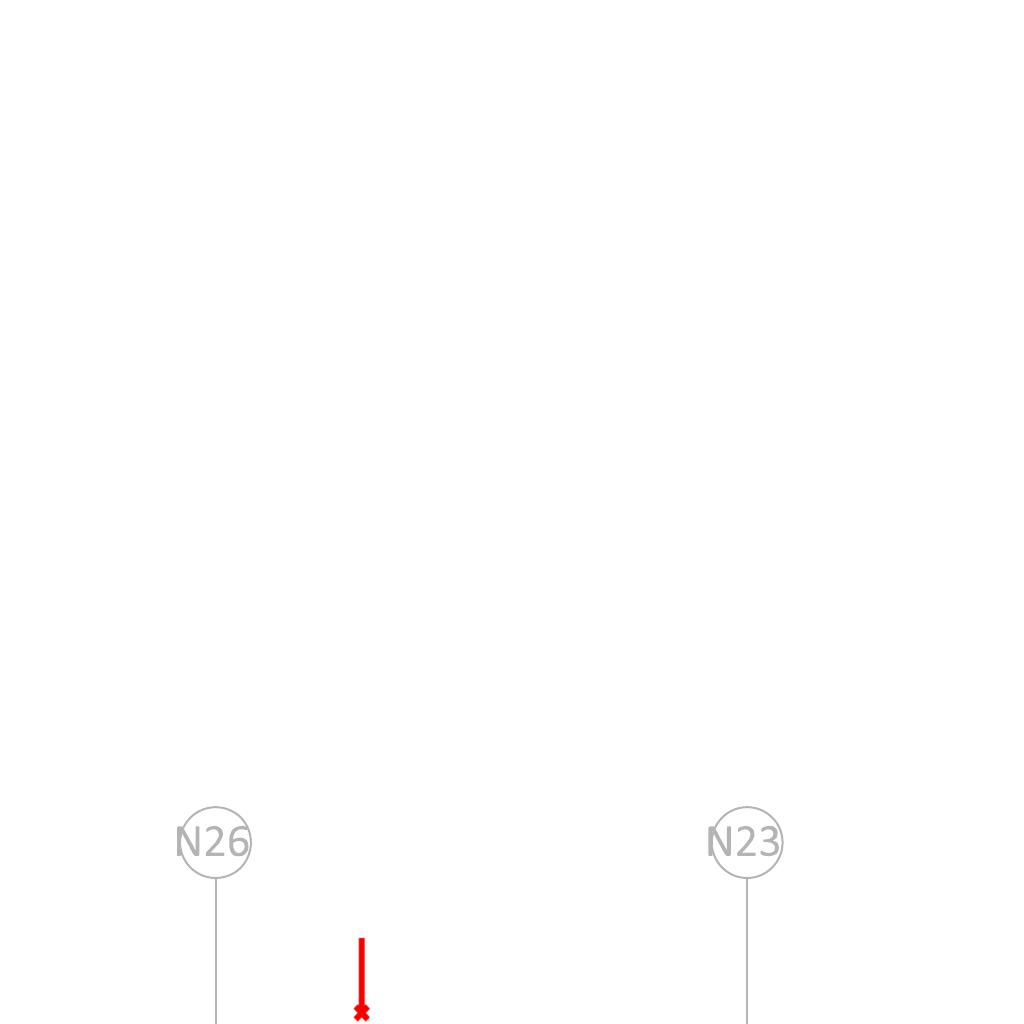ASR_Ansaugoeffnung: (349, 935, 372, 1023)
